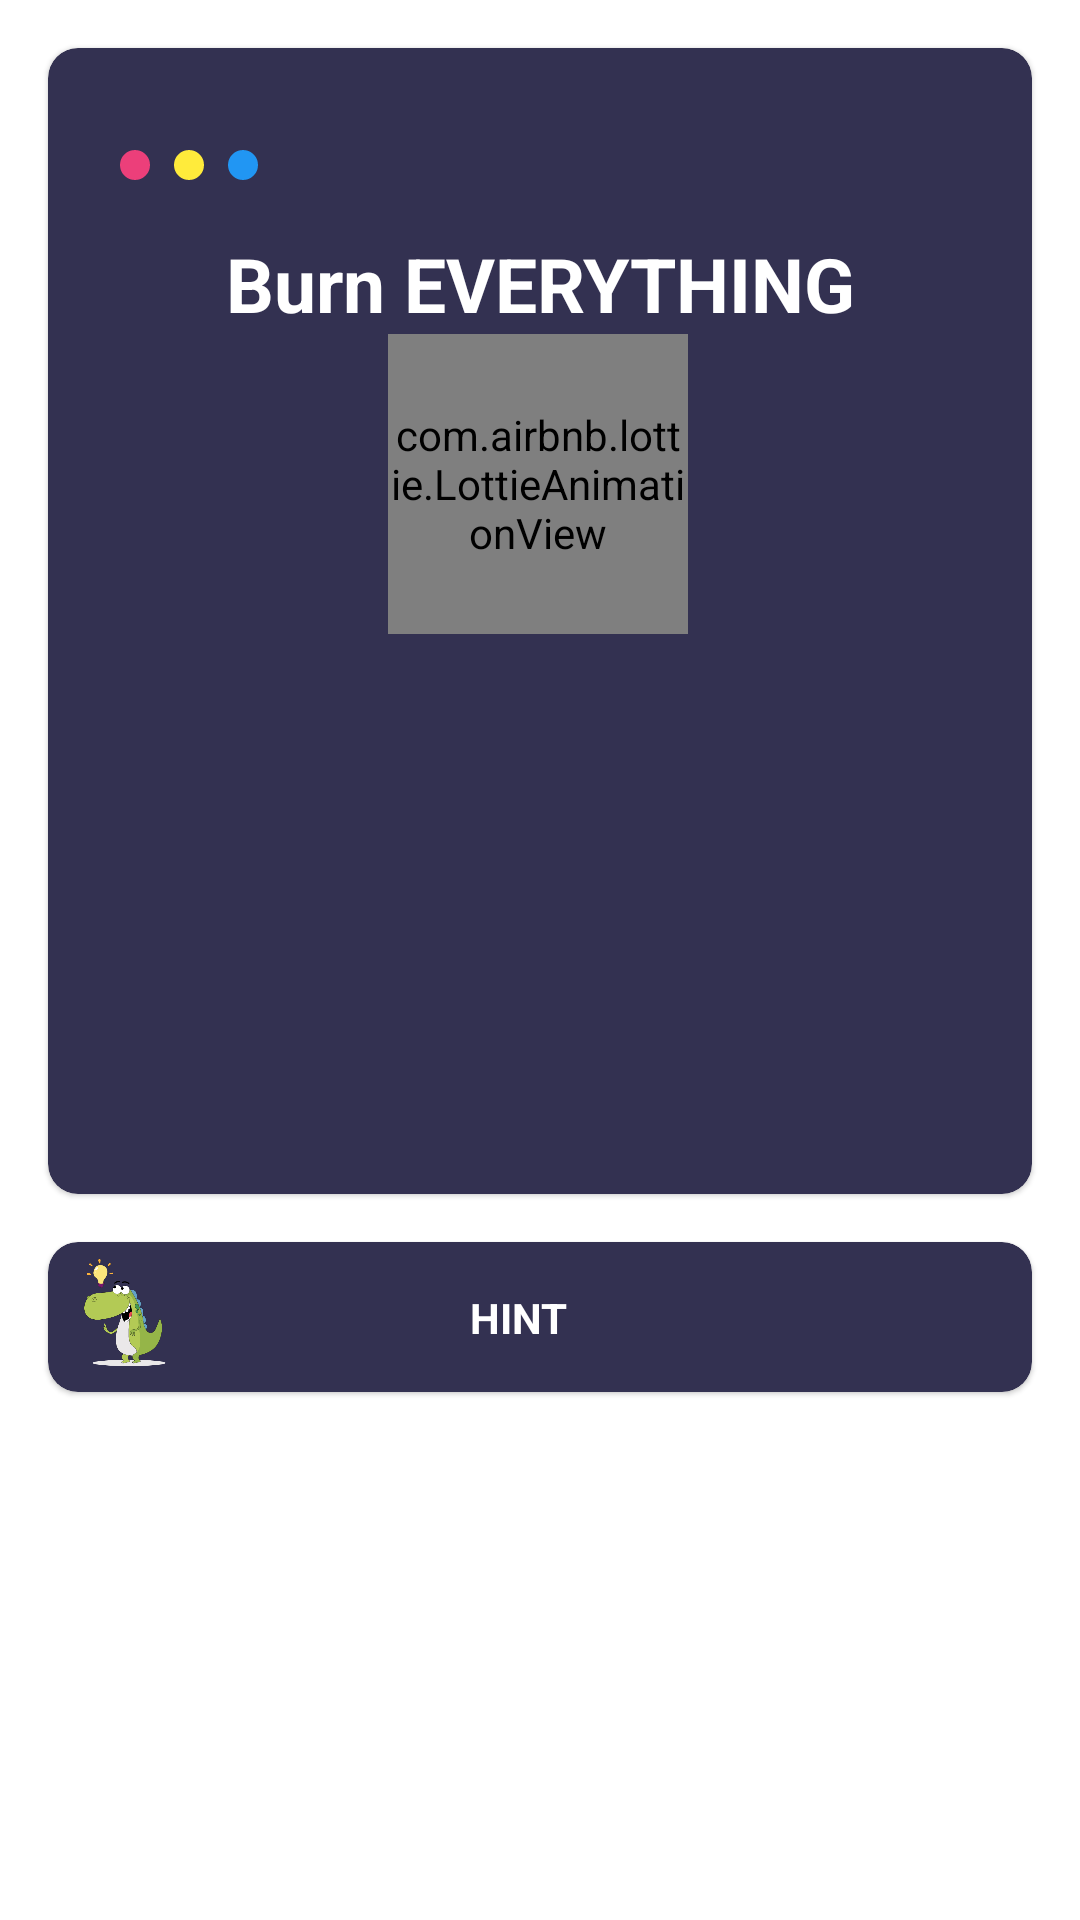

Screen size 1080 x 1920. Icon name, then its center in pixels as (x,y):
idea: (123,1317)
